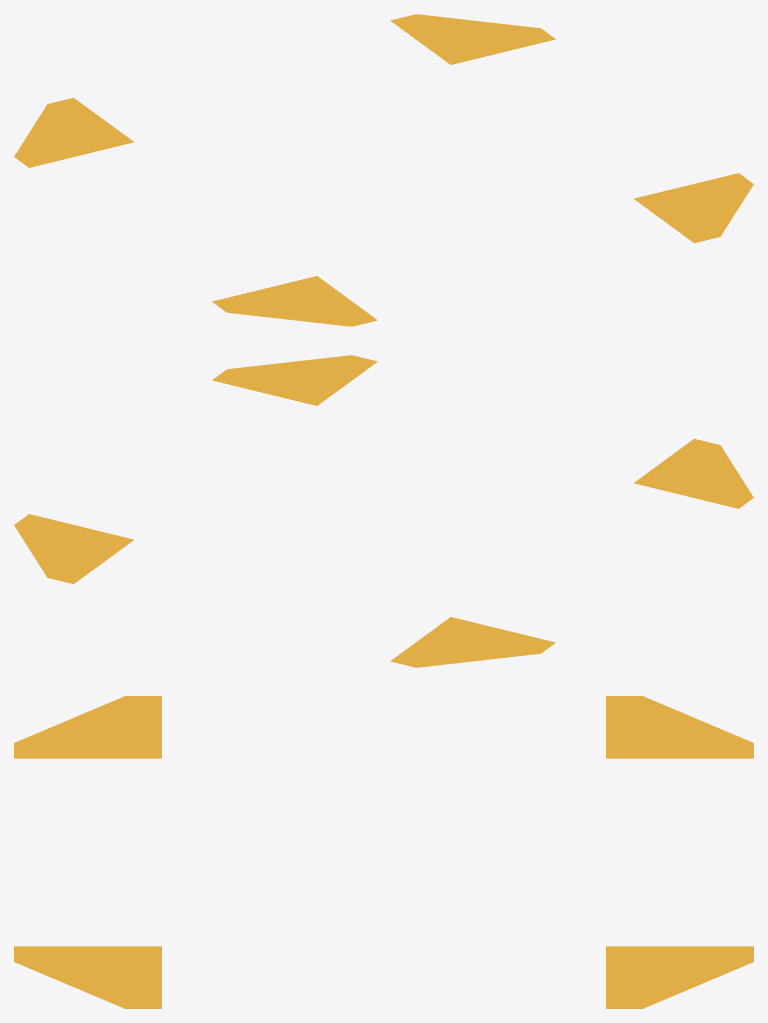
Rendered from prototype-kit--indicator-square-e.glb.
3 views of the same model, one above another, from view 1: azimuth 30°, elevation 25°; view 2: azimuth 150°, elevation 25°; view 3: azimuth 270°, elevation 25° (orthographic). The views are drawn at different scales.
Visible parts, largest first — view 1: indicator-square-e; view 2: indicator-square-e; view 3: indicator-square-e.
Boxes of the visible parts, x1,y1,x2,y2 form: indicator-square-e: (14, 14, 753, 326); indicator-square-e: (14, 355, 753, 667); indicator-square-e: (14, 696, 753, 1008).
Size of the model in its own units: 1 by 0 by 1.
1 material, 1 textured.
